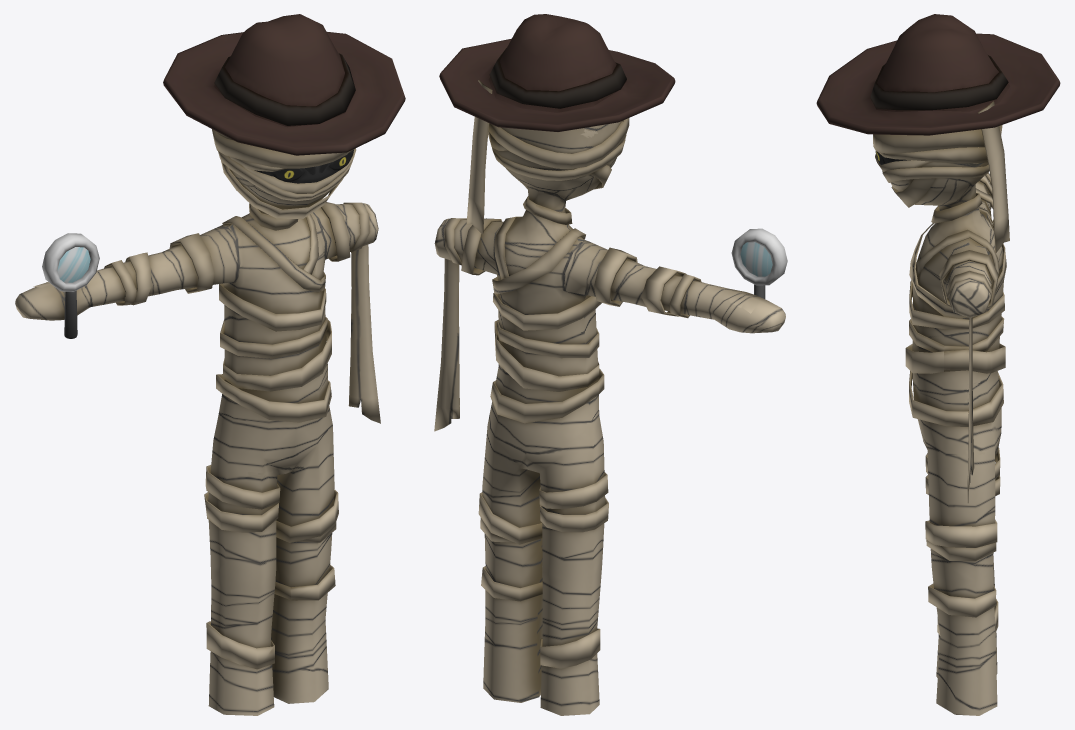
Rendered from Mummy_Traveler_Revised.fbx.
The picture shows the model from 3 angles, left to right: view 1: azimuth 30°, elevation 25°; view 2: azimuth 150°, elevation 25°; view 3: azimuth 270°, elevation 25°; orthographic projection. The views are drawn at different scales.
Parts seen in each view (by area): view 1: Mummy_Traveler; view 2: Mummy_Traveler; view 3: Mummy_Traveler.
Boxes of the visible parts, left/top/right/bottom form: Mummy_Traveler: left=15, top=14, right=405, bottom=715; Mummy_Traveler: left=434, top=14, right=787, bottom=715; Mummy_Traveler: left=816, top=14, right=1060, bottom=715.
Size of the model in its own units: 122 by 223 by 74.17.
Materials: 1 (1 with a texture image).
